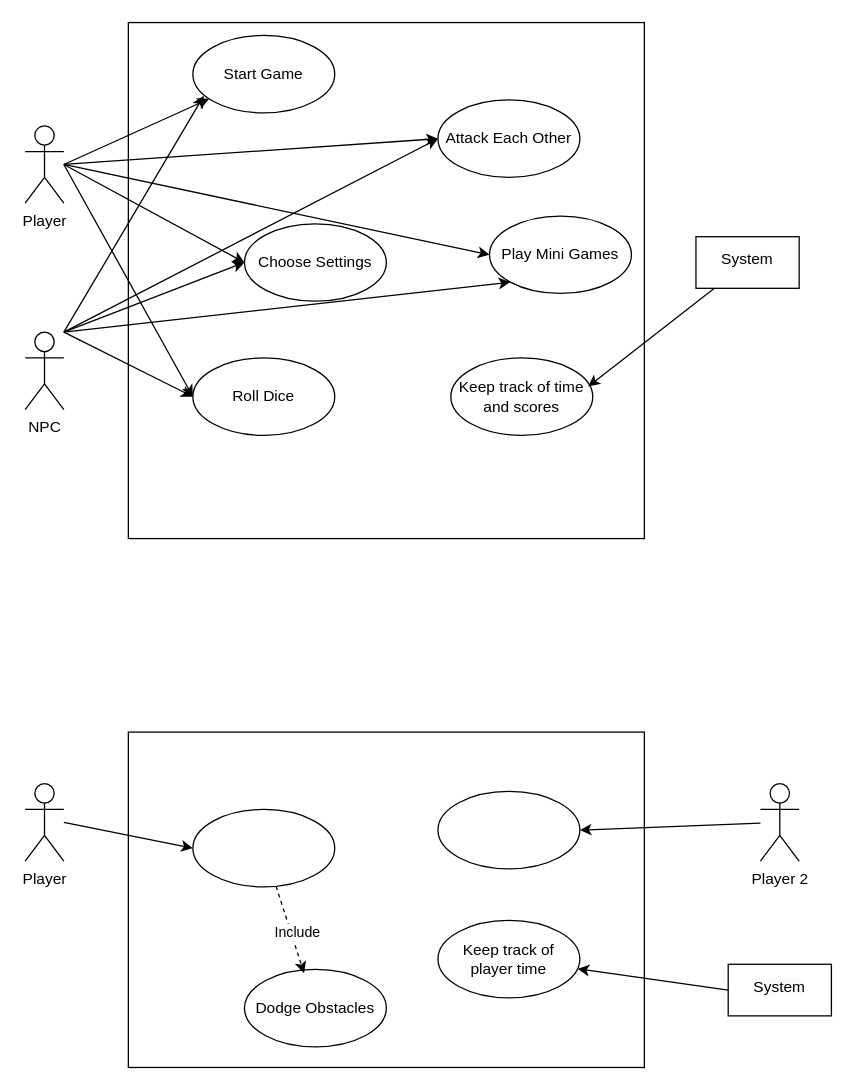
The diagram is 854 pixels wide and 1090 high, and some of its shapes have lost their labels. Here are the shapes that lost their labels. From the top down, the centre of each, then its label:
At (x=263, y=847): "Get to the End".
At (x=508, y=829): "Activate Obstacles".
